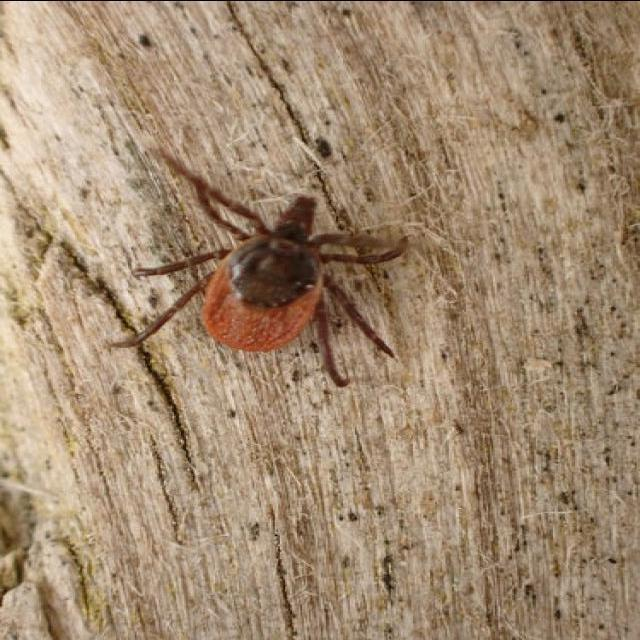Ixodes Ricinus-F: (111, 151, 410, 387)
